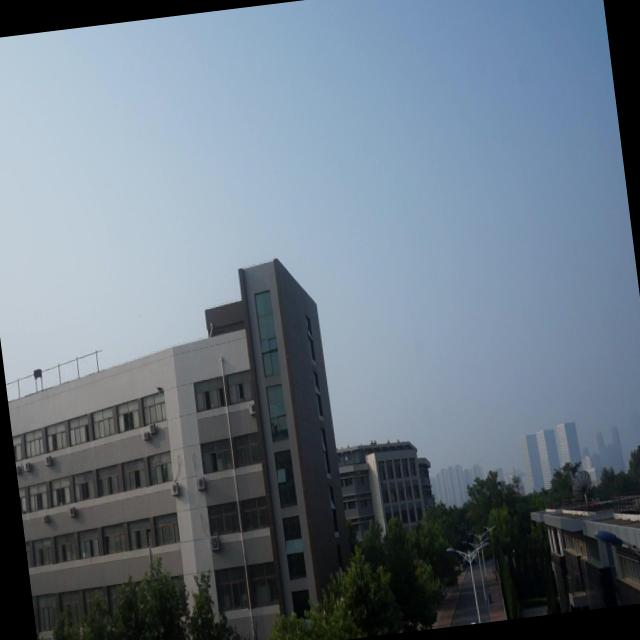drone: (153, 382, 165, 396)
